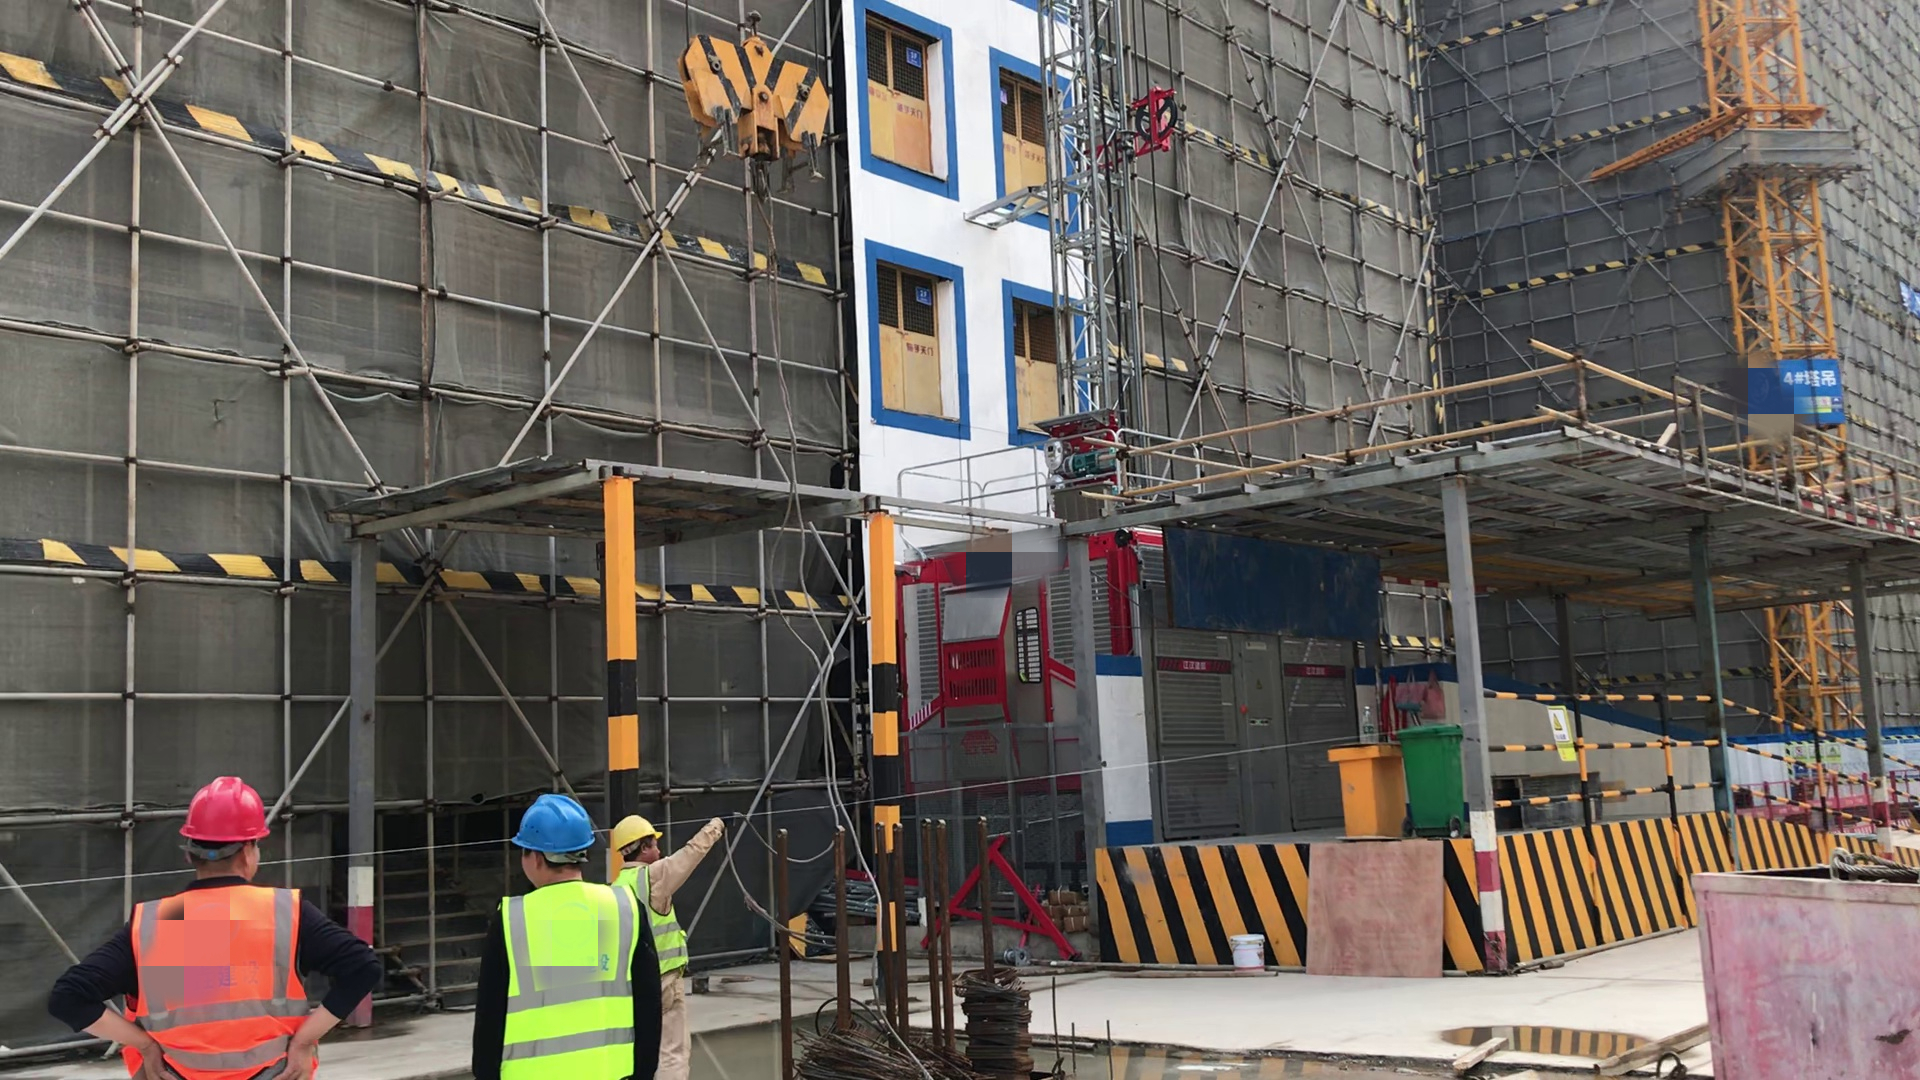fence: (1499, 664, 1920, 861)
helmet: (182, 768, 276, 848), (503, 790, 600, 854), (610, 808, 668, 850)
hook: (672, 9, 845, 196)
person: (50, 773, 393, 1080), (463, 792, 667, 1080), (606, 818, 744, 1079)
slogan: (1538, 695, 1597, 781)
vest: (132, 878, 311, 1080), (501, 878, 649, 1080), (620, 861, 692, 983)
